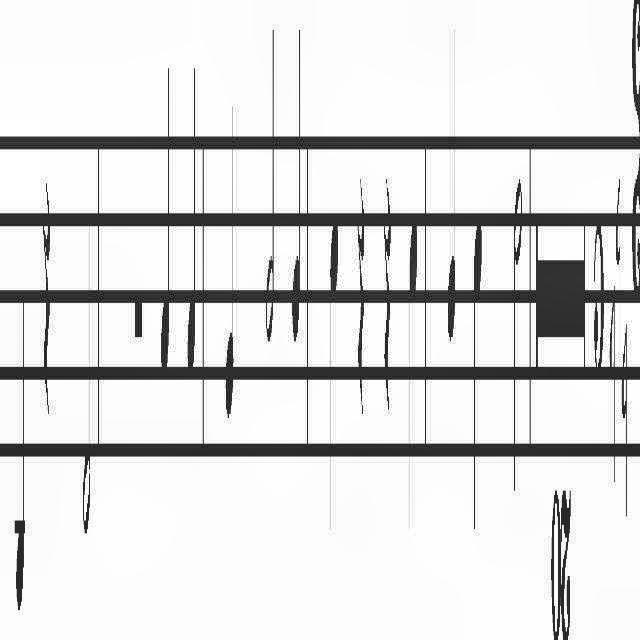Bemol: (621, 311, 627, 525), (609, 281, 615, 495), (615, 170, 621, 362)
Half-note: (513, 167, 523, 517), (82, 201, 92, 551), (265, 18, 275, 354)
Quarter-note: (472, 201, 483, 564), (409, 205, 419, 547), (292, 8, 302, 346), (225, 93, 235, 430), (187, 51, 197, 388), (15, 286, 25, 622), (330, 214, 340, 546), (161, 60, 171, 380), (448, 4, 457, 346)
Quarter-rest: (357, 154, 365, 418), (43, 166, 51, 427), (384, 174, 392, 422)
